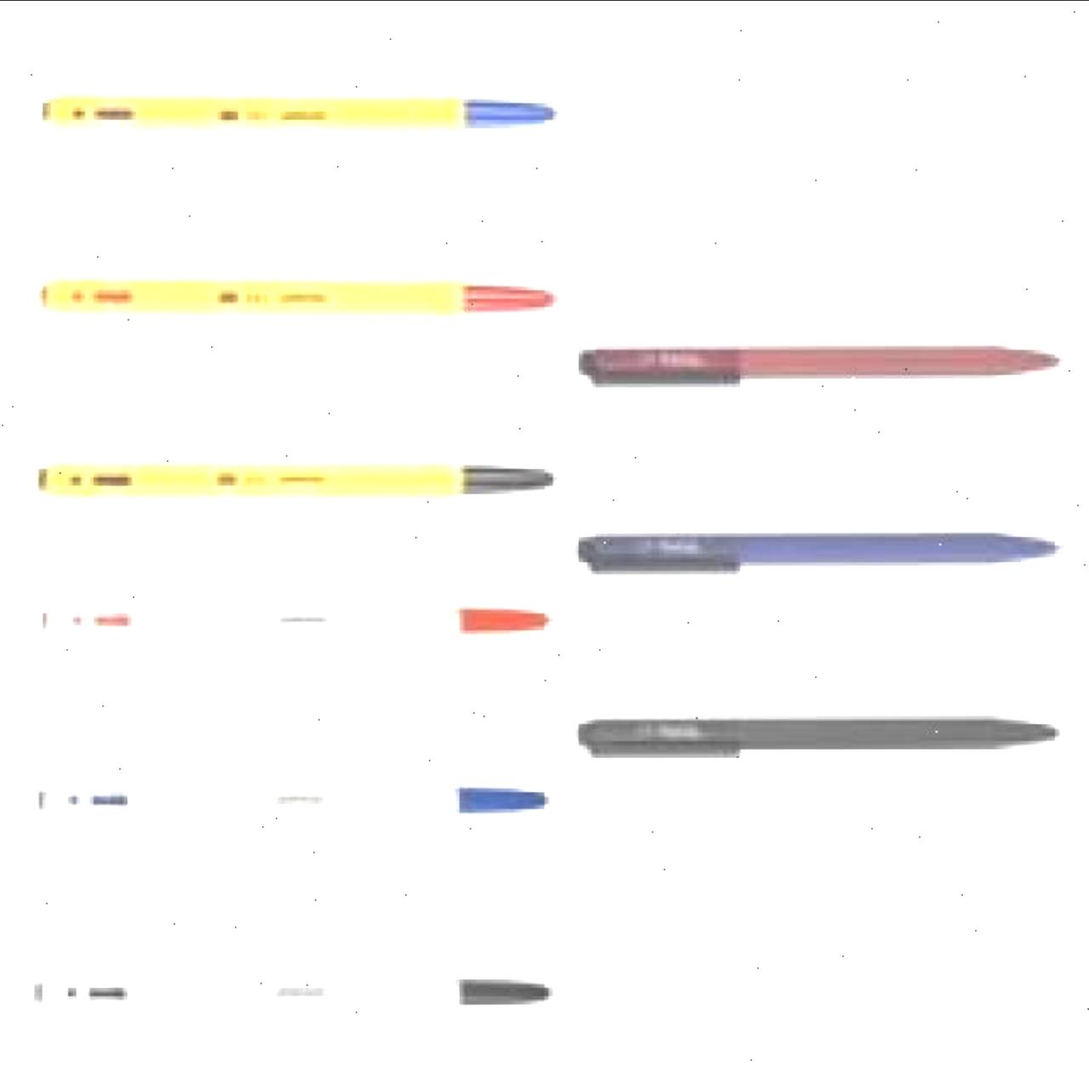pen: (34, 975, 558, 1018)
